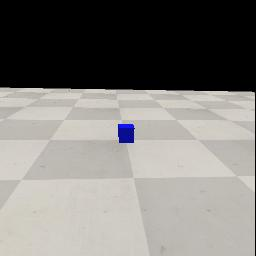box: (118, 124, 135, 143)
